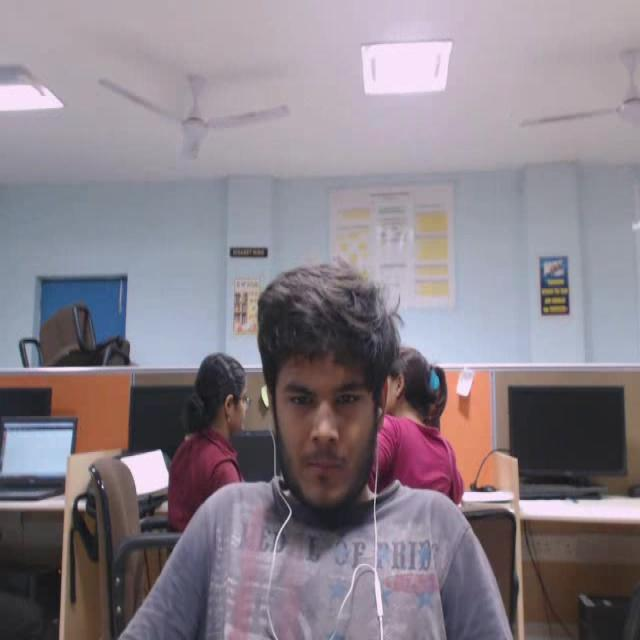Engaged: (239, 250, 430, 528)
